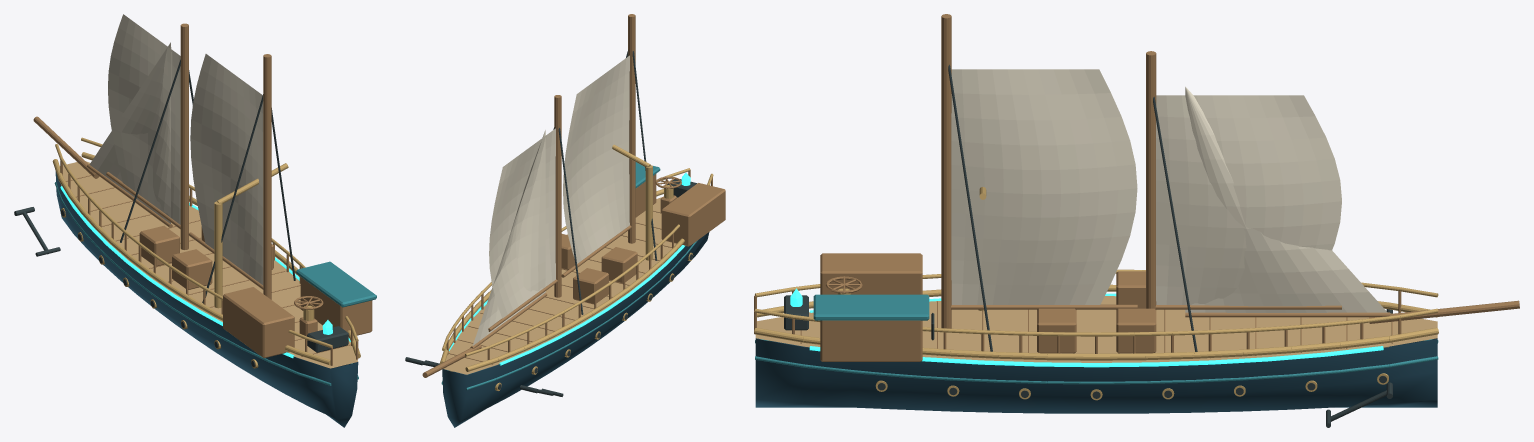
The model's file is premium_salvage_schooner.glb.
3 renders of one model, left to right at view 1: azimuth 30°, elevation 25°; view 2: azimuth 150°, elevation 25°; view 3: azimuth 270°, elevation 25°, orthographic. The views are drawn at different scales.
Parts seen in each view (by area): view 1: premium_salvage_schooner; view 2: premium_salvage_schooner; view 3: premium_salvage_schooner.
Part boxes in pixels (bbox=[...]): premium_salvage_schooner: bbox=[14, 14, 376, 427]; premium_salvage_schooner: bbox=[405, 14, 725, 427]; premium_salvage_schooner: bbox=[754, 14, 1519, 427].
Size of the model in its own units: 3.86 by 7.6 by 13.47.
